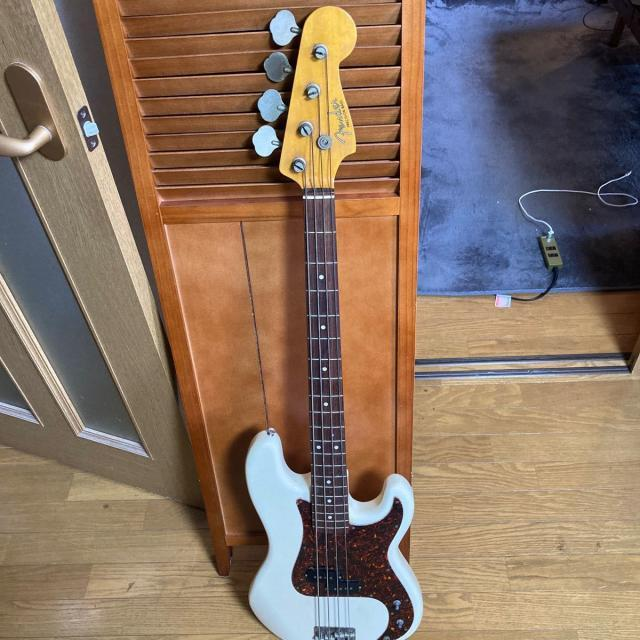bass: (246, 7, 422, 639)
